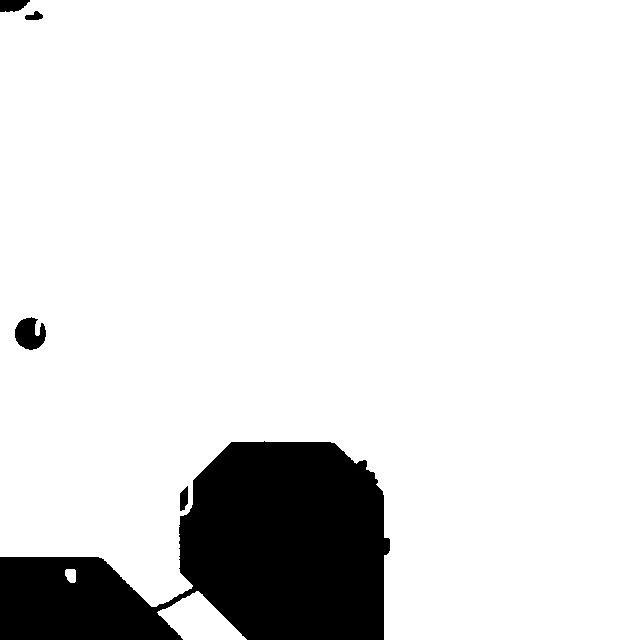copper: (15, 1, 52, 29)
mousebite: (25, 308, 55, 345)
open: (166, 470, 202, 525)
pin-hole: (55, 559, 85, 592)
short: (136, 576, 209, 623)
spur: (346, 450, 387, 493), (368, 528, 399, 564)
